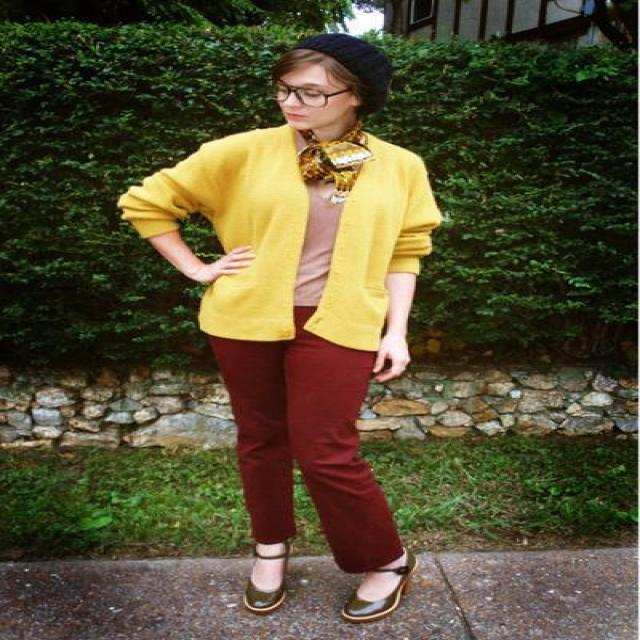hat: (297, 31, 388, 113)
jacket: (117, 125, 451, 350)
pants: (208, 306, 403, 573)
shirt: (288, 192, 347, 308)
shoe: (250, 558, 414, 615)
